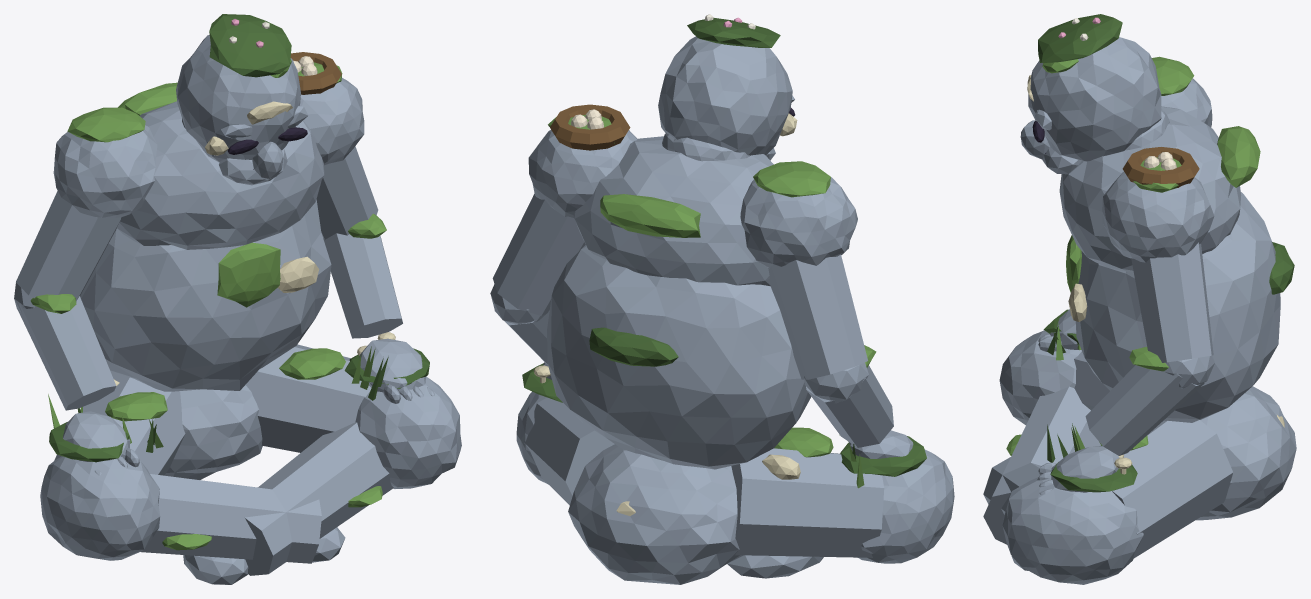
Rendered from giant.glb.
3 views of the same model, side by side, from view 1: azimuth 30°, elevation 25°; view 2: azimuth 150°, elevation 25°; view 3: azimuth 270°, elevation 25° (orthographic). The views are drawn at different scales.
Parts seen in each view (by area): view 1: GiantBody; view 2: GiantBody; view 3: GiantBody.
Part boxes in pixels (x1,y1,x2,y2): GiantBody: [14, 14, 461, 584]; GiantBody: [490, 14, 954, 584]; GiantBody: [983, 14, 1296, 584].
Bounding box in the file's own units: 5.43 × 7 × 3.73.
